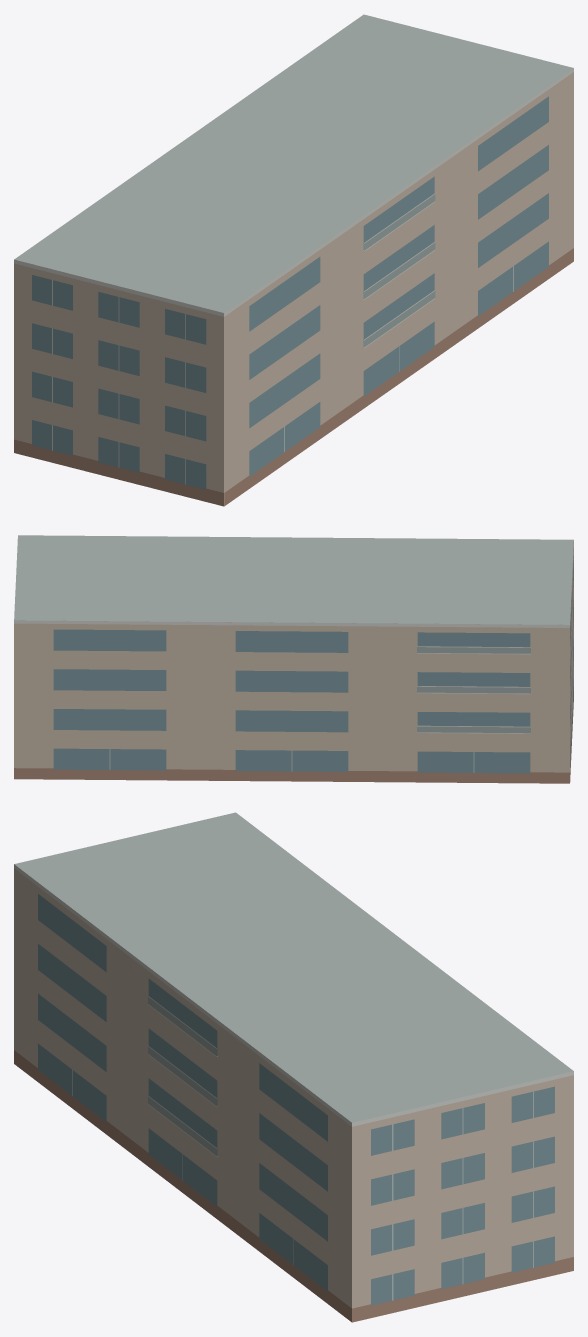
File: residential-f75d6b1d-41f2-4005-95b2-086ad14c354f.glb
3 views of the same model, one above another, from view 1: azimuth 30°, elevation 25°; view 2: azimuth 150°, elevation 25°; view 3: azimuth 270°, elevation 25° (orthographic). The views are drawn at different scales.
Visible parts, largest first — view 1: residential-f75d6b1d-41f2-4005-95b2-086ad14c354f.tmp; view 2: residential-f75d6b1d-41f2-4005-95b2-086ad14c354f.tmp; view 3: residential-f75d6b1d-41f2-4005-95b2-086ad14c354f.tmp.
Part boxes in pixels (<box>): residential-f75d6b1d-41f2-4005-95b2-086ad14c354f.tmp: <box>14,14,573,506</box>; residential-f75d6b1d-41f2-4005-95b2-086ad14c354f.tmp: <box>14,535,573,783</box>; residential-f75d6b1d-41f2-4005-95b2-086ad14c354f.tmp: <box>14,812,573,1322</box>.
Bounding box in the file's own units: 40.67 × 12.2 × 31.
